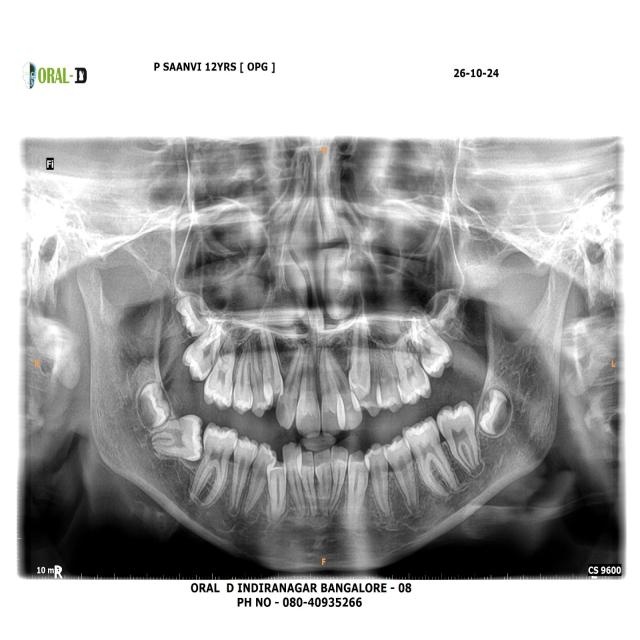Premolars: (385, 435, 418, 513), (364, 440, 390, 524)
